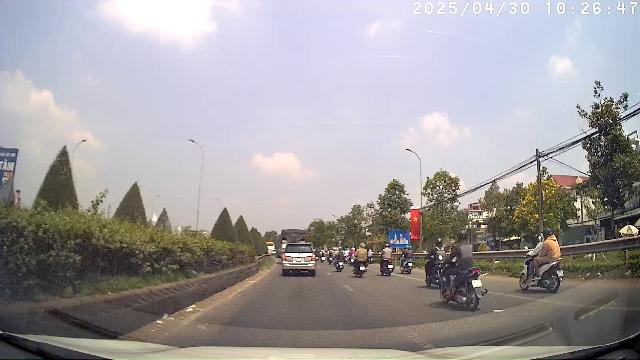421-ket-thuc-khu-dong-dan-cu: (389, 229, 409, 246)
